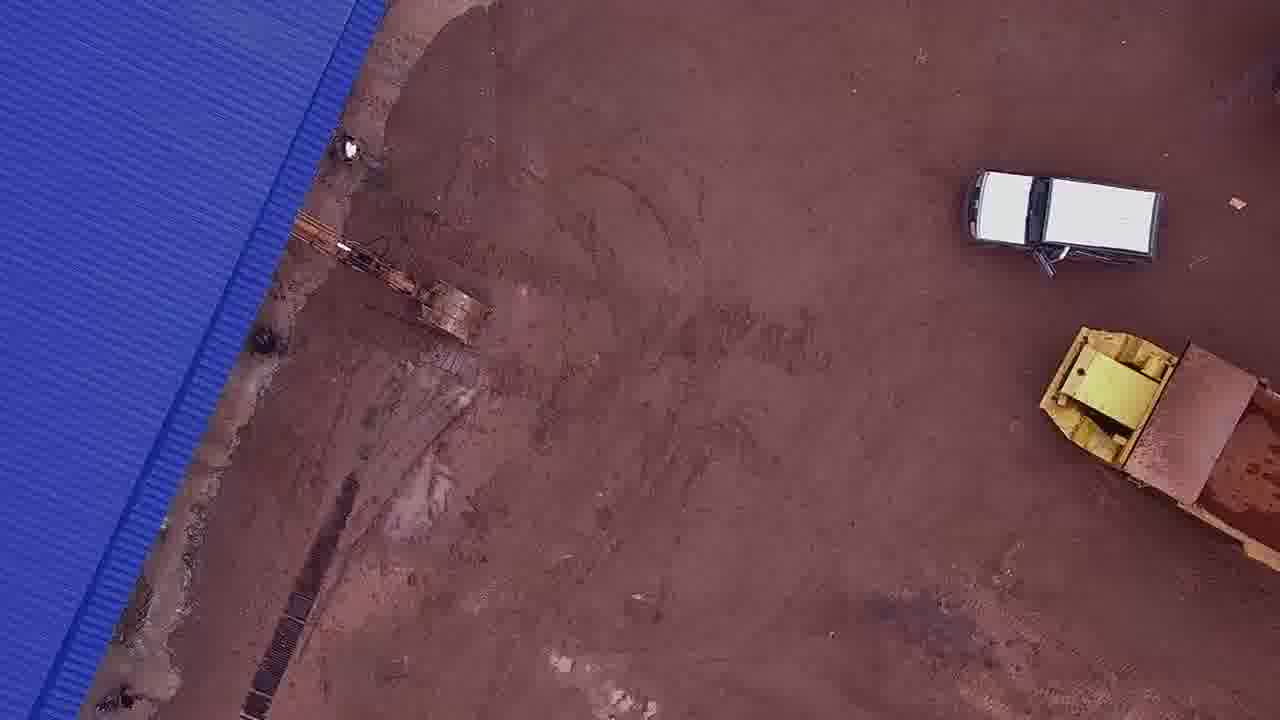HMV: (1041, 304, 1280, 577)
LMV: (961, 164, 1162, 273)
Person: (339, 128, 362, 171)
